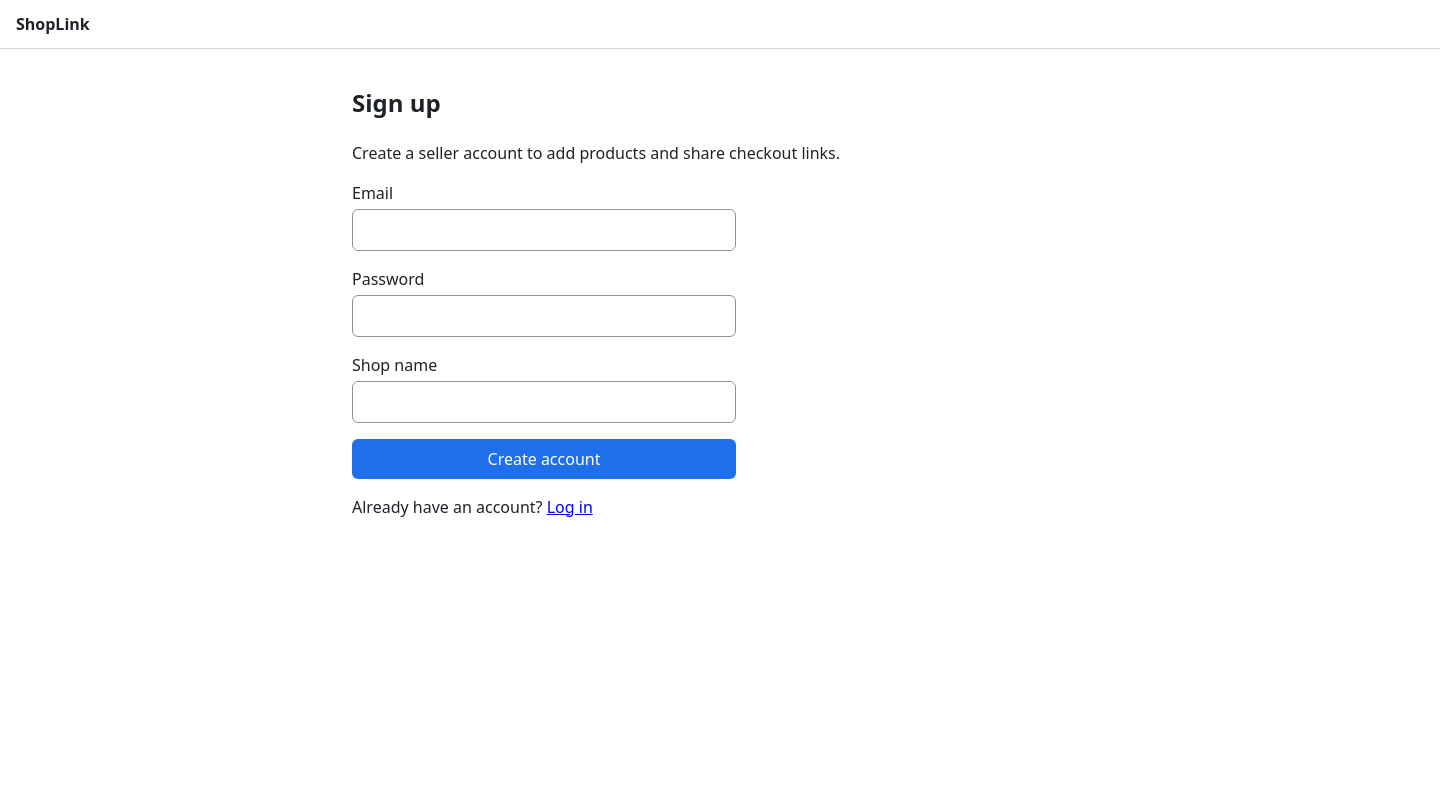
Test case: sign up page › creates the account, logs in, and goes to the products page
Check: the heading "Sign up" is shown, box [352,86,441,119]
Type "rafi@example.com" into the field labelled "Email" at (544, 230), box [352,209,736,251]
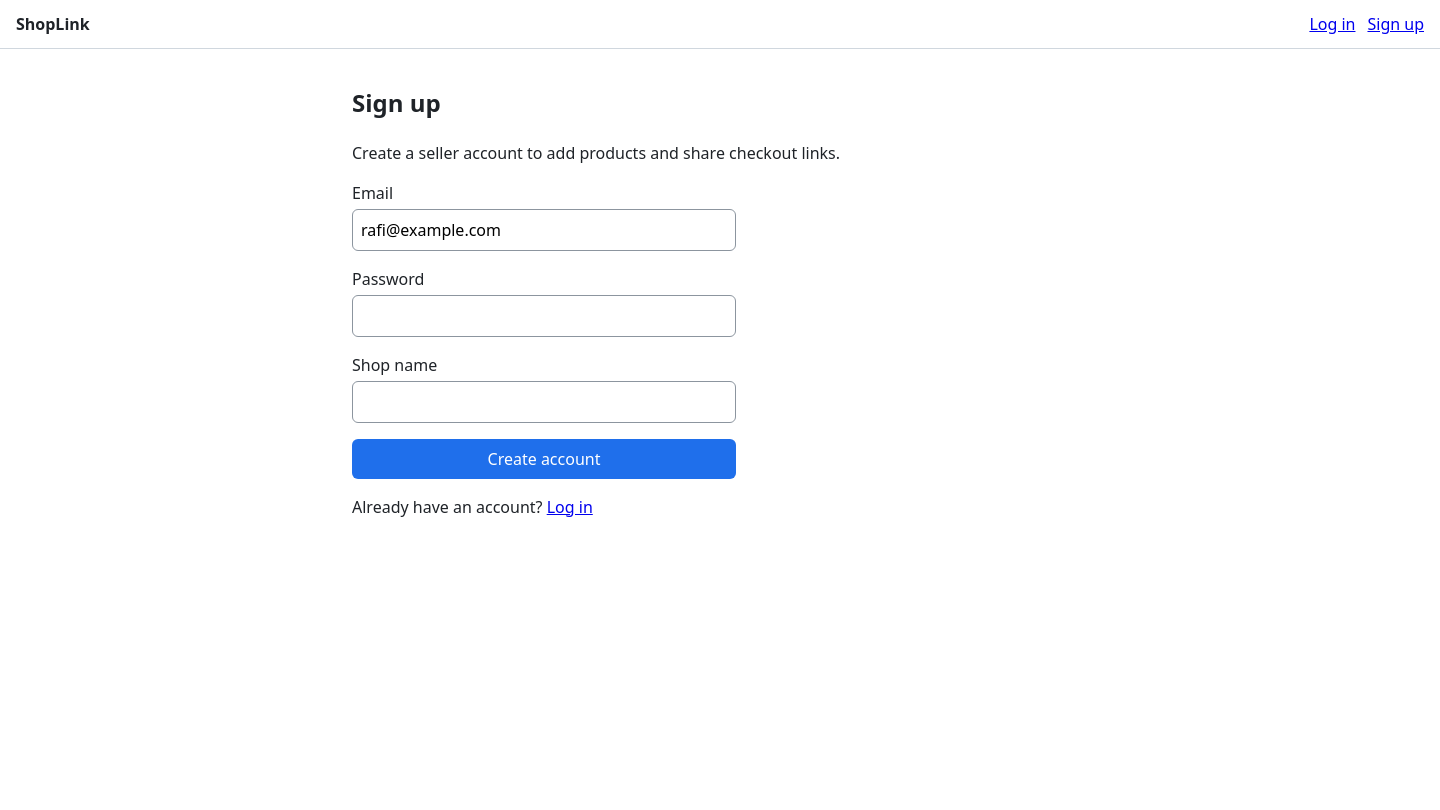
Type "correct horse" into the password field labelled "Password" at (544, 316), box [352,295,736,337]
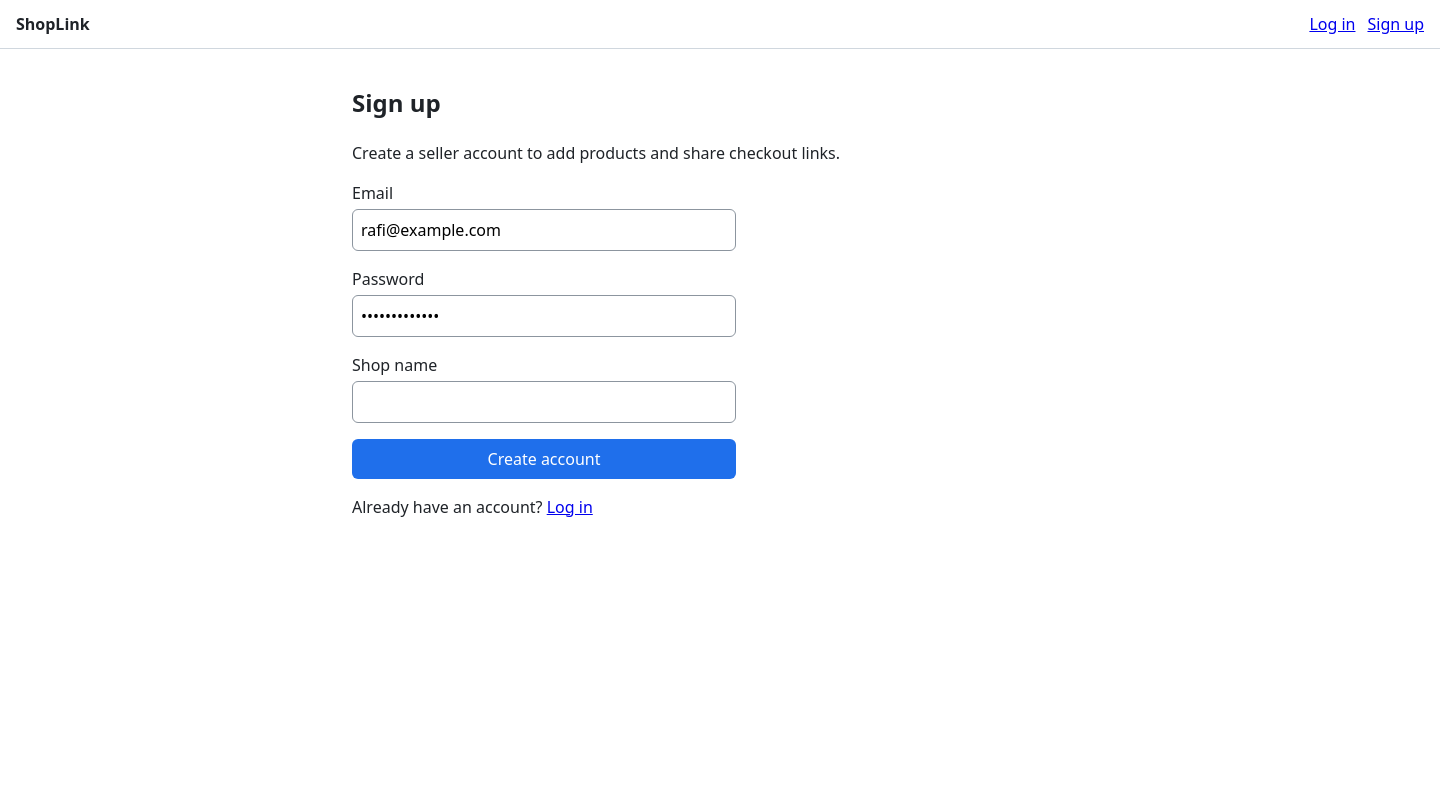
Type "Toko Rafi" into the field labelled "Shop name" at (544, 402), box [352,381,736,423]
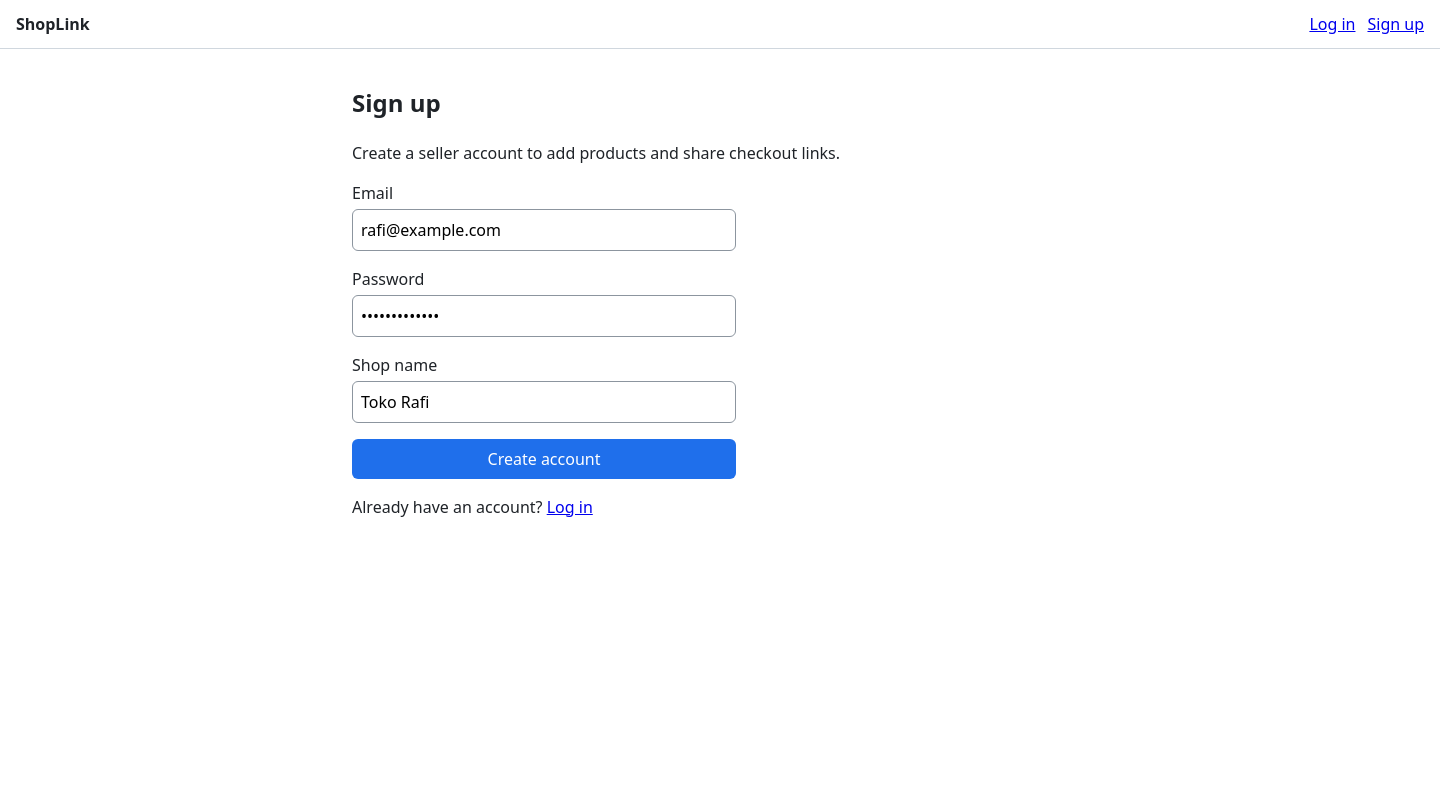
Click the button "Create account" at (544, 459), box [352,439,736,479]
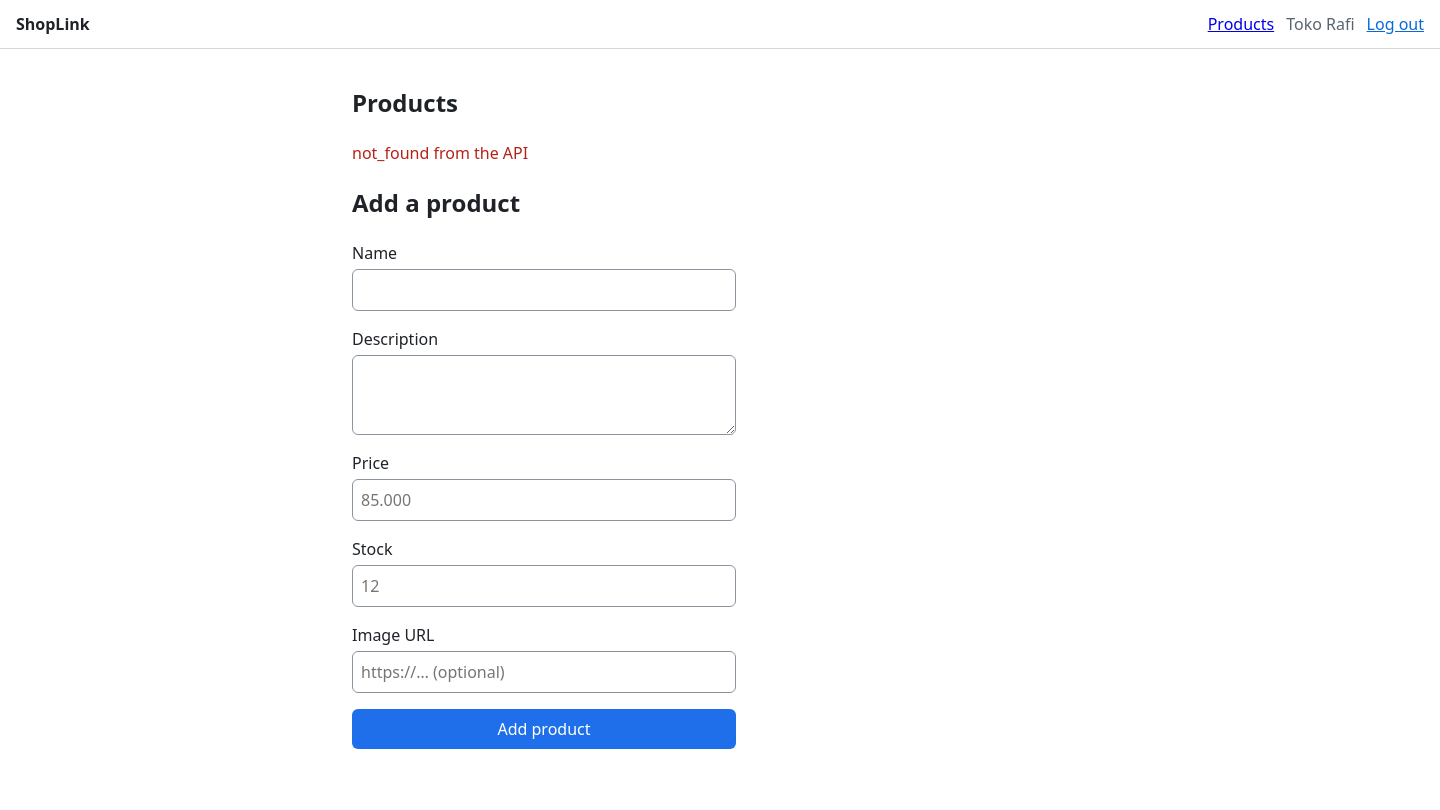
Check: the heading "Products" is shown, box [352,86,458,119]
Check: the text "Toko Rafi" is shown, box [1286,12,1355,36]
